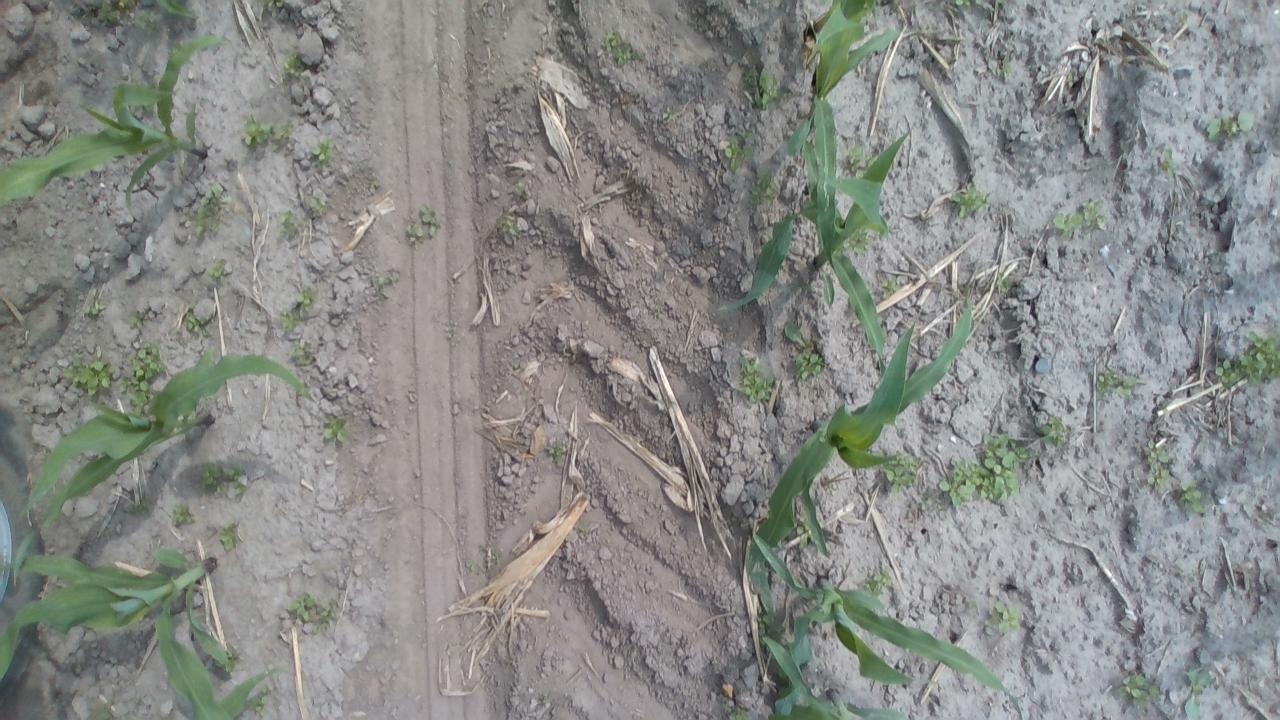Maize: (739, 288, 980, 626), (0, 342, 319, 589), (750, 524, 1030, 720), (0, 541, 295, 720), (718, 124, 916, 378), (0, 33, 233, 222), (781, 0, 907, 269), (752, 630, 928, 720), (157, 0, 203, 25)
Weeds: (935, 431, 1033, 510), (1216, 328, 1280, 394), (122, 342, 169, 415), (60, 348, 119, 401), (1049, 195, 1111, 243), (286, 590, 341, 632), (737, 352, 779, 406), (192, 182, 234, 236), (90, 0, 160, 31), (878, 450, 922, 498), (948, 177, 998, 219), (1179, 666, 1217, 720), (196, 465, 250, 502), (1088, 366, 1146, 400), (1204, 105, 1257, 142), (240, 113, 298, 145), (744, 68, 786, 112), (1119, 670, 1165, 710), (722, 128, 758, 173), (1144, 437, 1172, 494), (982, 599, 1024, 636), (405, 204, 442, 246), (1176, 478, 1210, 520), (601, 29, 639, 66), (790, 347, 826, 384), (1040, 416, 1072, 448), (748, 172, 780, 204), (321, 415, 353, 447), (865, 567, 895, 601), (369, 268, 403, 298), (280, 52, 308, 88), (214, 641, 241, 677), (844, 142, 872, 176), (311, 135, 337, 171), (286, 341, 318, 370), (844, 228, 874, 258), (218, 520, 244, 554), (1154, 148, 1188, 174), (253, 684, 277, 720), (276, 207, 300, 242), (183, 309, 214, 336), (542, 437, 570, 466), (494, 214, 524, 241), (124, 497, 159, 520), (293, 285, 321, 313), (753, 610, 778, 641), (721, 701, 760, 720), (169, 502, 197, 528), (82, 697, 113, 720), (80, 300, 108, 322), (208, 256, 228, 284), (306, 196, 332, 217), (276, 312, 300, 334), (996, 53, 1014, 82), (878, 278, 904, 298), (993, 274, 1013, 296), (782, 322, 804, 342), (258, 0, 290, 13), (793, 525, 809, 548), (944, 0, 979, 10), (660, 102, 677, 121), (514, 180, 530, 200), (130, 310, 146, 330), (861, 0, 882, 15), (988, 0, 1008, 11), (1182, 10, 1194, 24)
